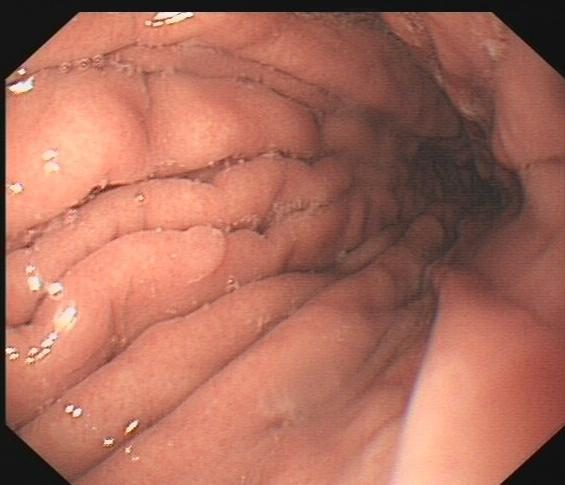Polyp: (170, 213, 234, 287)
